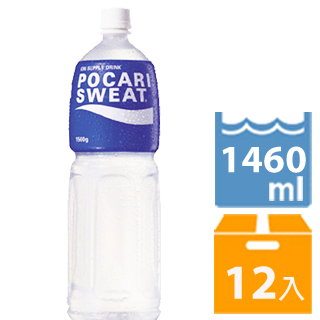POCARI SWEAT: (67, 6, 163, 320)
